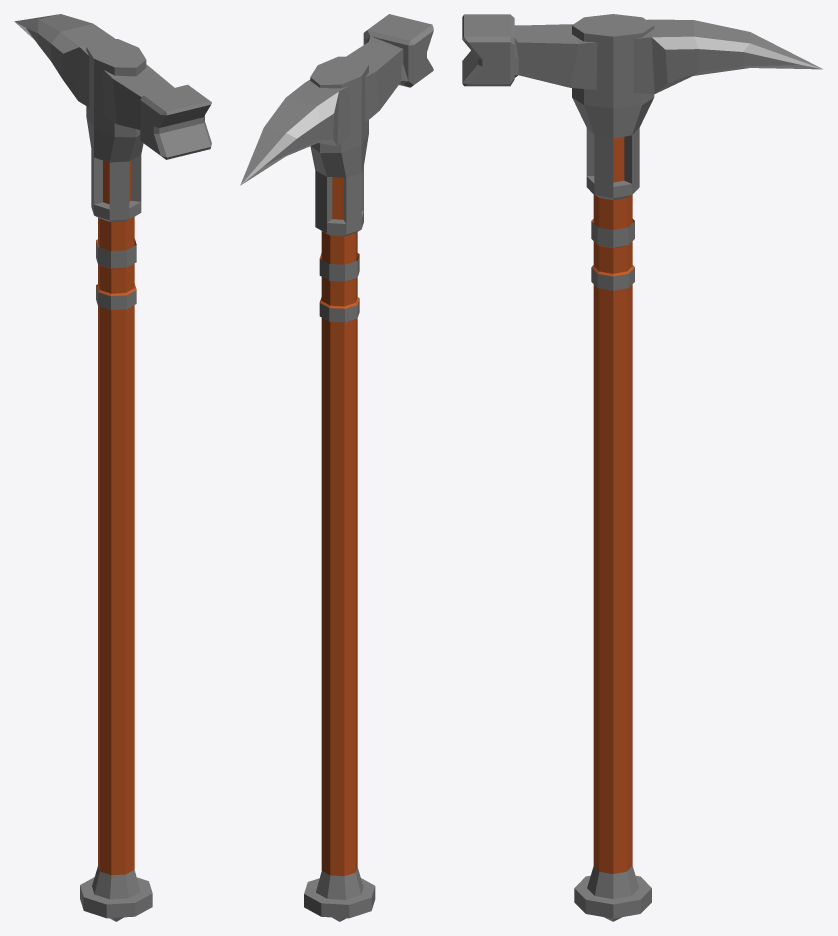
File: Warhammer.glb
3 renders of one model, left to right at view 1: azimuth 30°, elevation 25°; view 2: azimuth 150°, elevation 25°; view 3: azimuth 270°, elevation 25°, orthographic. The views are drawn at different scales.
Visible parts, largest first — view 1: Warhammer; view 2: Warhammer; view 3: Warhammer.
Part boxes in pixels (box(x1,y1,x2,y2)): Warhammer: box(14, 14, 211, 921); Warhammer: box(240, 14, 433, 921); Warhammer: box(462, 14, 822, 921).
Bounding box in the file's own units: 861 × 10967 × 4006.
